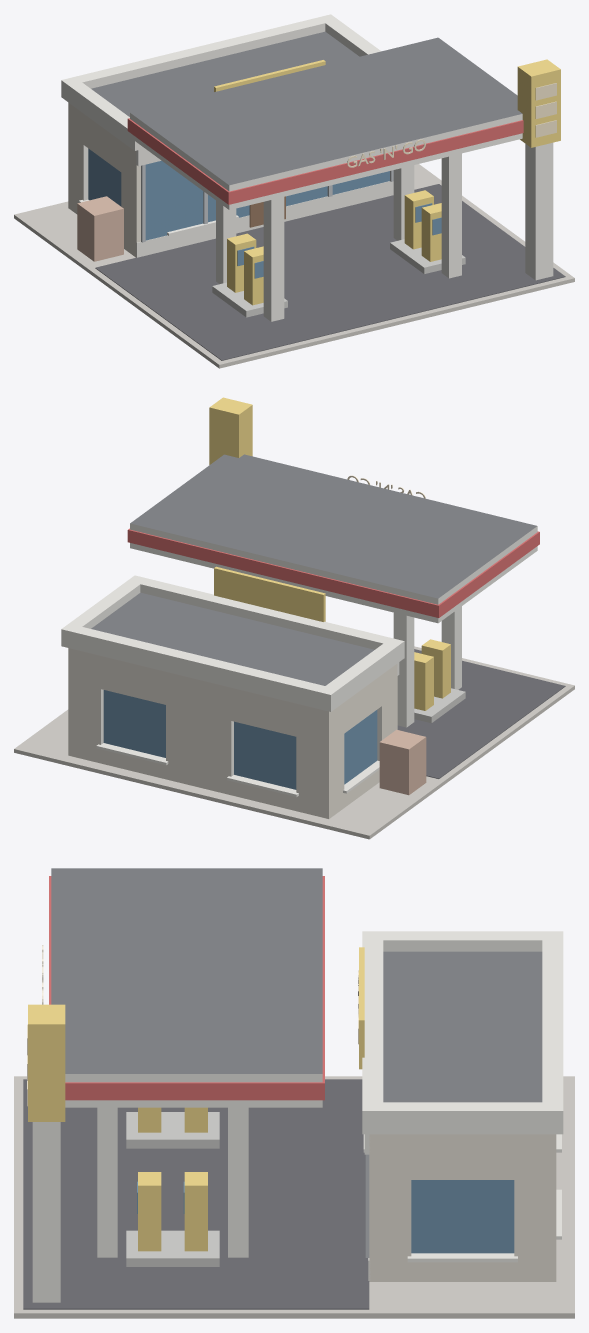
The model's file is gas_station.glb.
3 renders of one model, top to bottom at view 1: azimuth 30°, elevation 25°; view 2: azimuth 150°, elevation 25°; view 3: azimuth 270°, elevation 25°, orthographic. The views are drawn at different scales.
Parts seen in each view (by area): view 1: gas_station; view 2: gas_station; view 3: gas_station.
Part boxes in pixels (x1,y1,x2,y2): gas_station: (14,14,574,368); gas_station: (14,397,574,839); gas_station: (14,868,574,1318).
Bounding box in the file's own units: 12 × 6.8 × 12.
